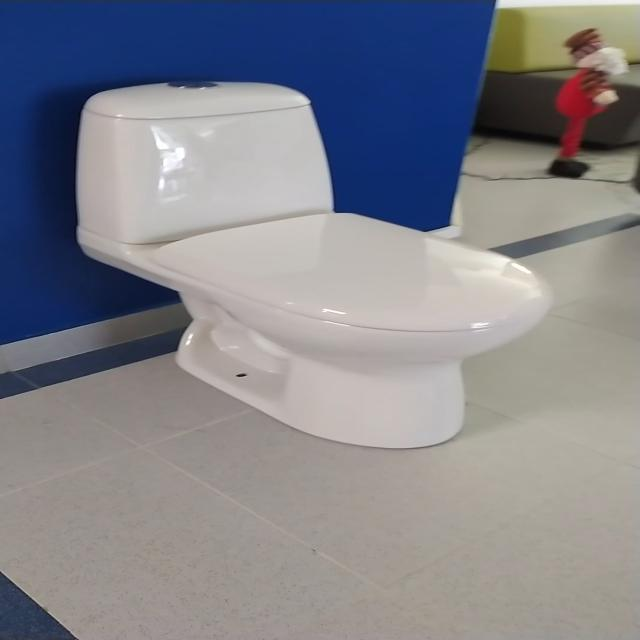toilet: (74, 80, 554, 450)
